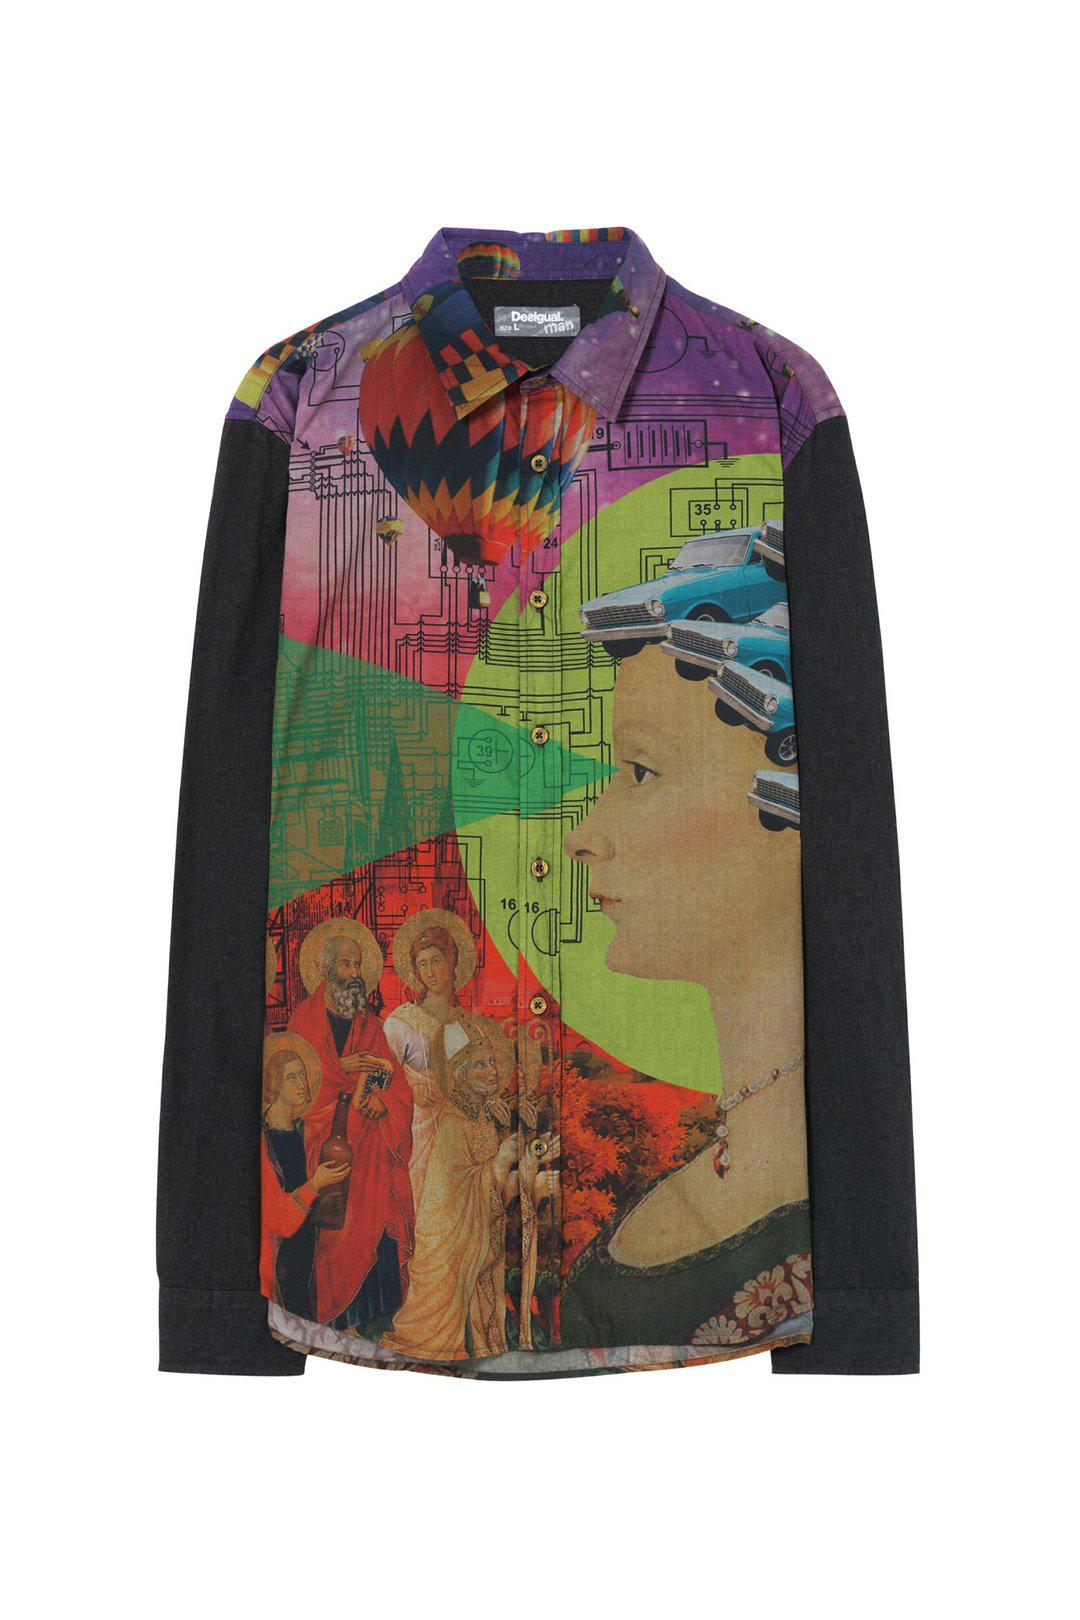teeshirt: (151, 217, 933, 1399)
